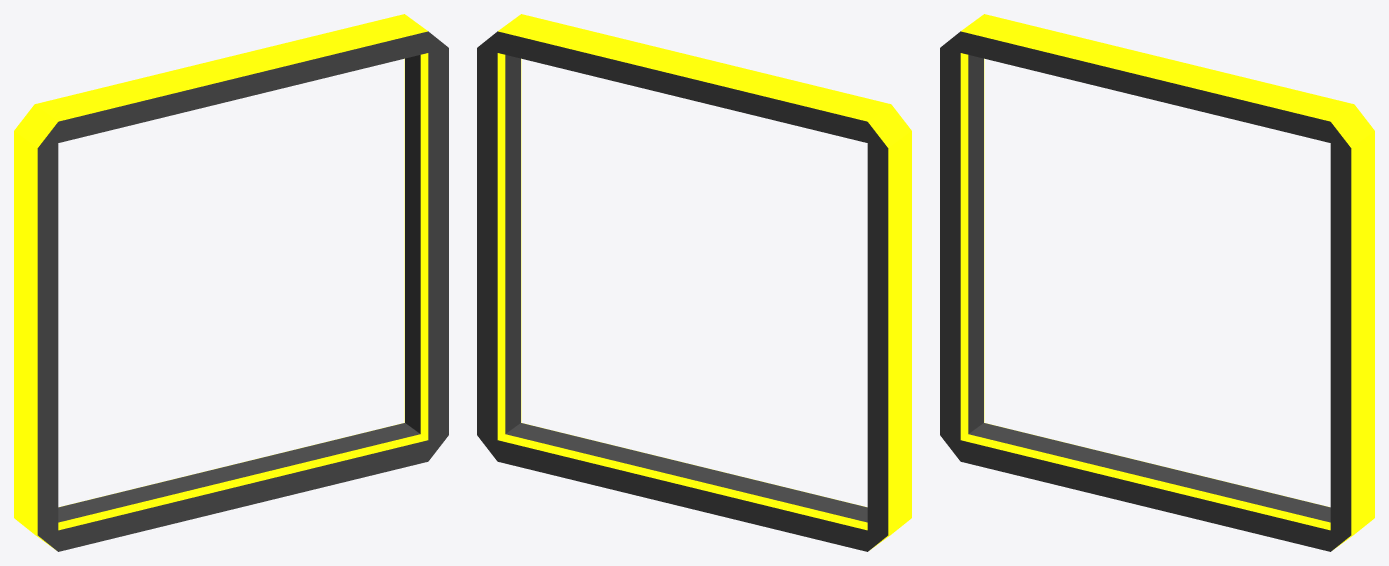
Rendered from neonstage.fbx.
3 renders of one model, left to right at view 1: azimuth 30°, elevation 25°; view 2: azimuth 150°, elevation 25°; view 3: azimuth 330°, elevation 25°, orthographic.
Parts seen in each view (by area): view 1: STAGE; view 2: STAGE; view 3: STAGE.
Part boxes in pixels (x1,y1,x2,y2): STAGE: (14,14,448,551); STAGE: (477,14,911,551); STAGE: (940,14,1374,551).
Bounding box in the file's own units: 2.27 × 2.27 × 0.2268.
